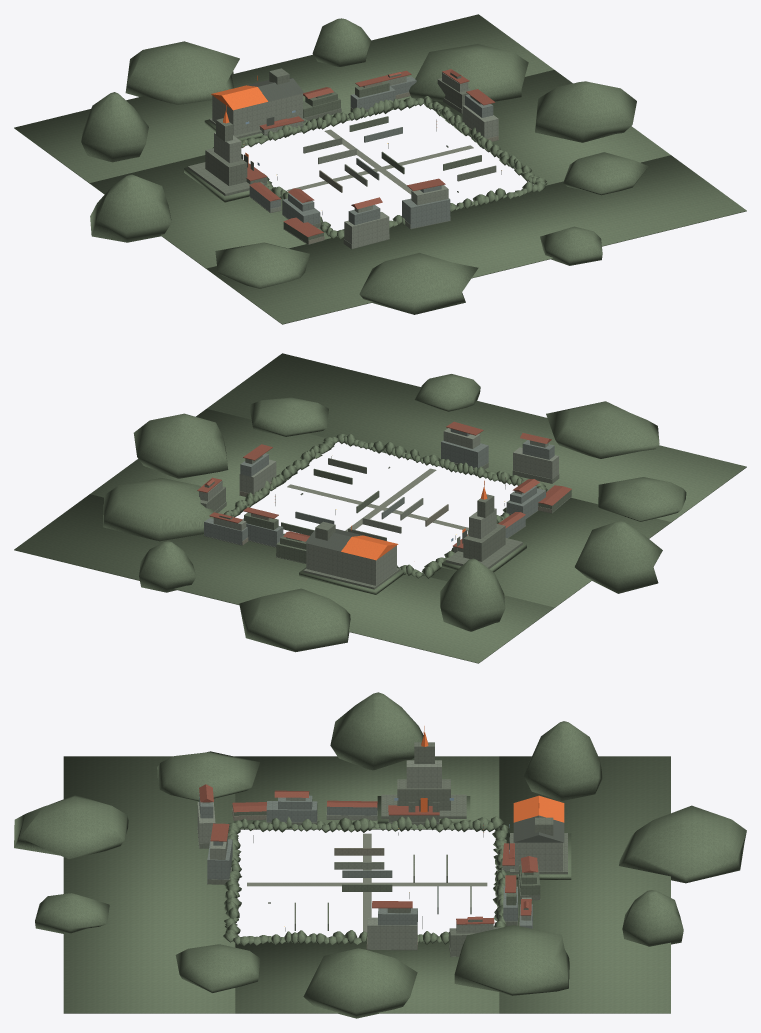
File: renshujo-lod2.glb
3 views of the same model, one above another, from view 1: azimuth 30°, elevation 25°; view 2: azimuth 150°, elevation 25°; view 3: azimuth 270°, elevation 25° (orthographic). The views are drawn at different scales.
Visible parts, largest first — view 1: HB_renshujo_LOD2_terrain, HB_renshujo_LOD2_wall_cool, HB_renshujo_LOD2_wall, HB_renshujo_LOD2_roof, HB_renshujo_LOD2_LANDMARK_1_wall_alt, HB_renshujo_LOD2_wall_weathered, HB_renshujo_LOD2_LANDMARK_0_wall, HB_renshujo_LOD2_wall_alt, HB_renshujo_LOD2_road, HB_renshujo_LOD2_LANDMARK_0_accent, HB_renshujo_LOD2_LANDMARK_0_trim, HB_renshujo_LOD2_LANDMARK_1_wall; view 2: HB_renshujo_LOD2_terrain, HB_renshujo_LOD2_wall_cool, HB_renshujo_LOD2_wall, HB_renshujo_LOD2_LANDMARK_0_wall, HB_renshujo_LOD2_roof, HB_renshujo_LOD2_LANDMARK_1_wall_alt, HB_renshujo_LOD2_wall_weathered, HB_renshujo_LOD2_wall_alt, HB_renshujo_LOD2_road, HB_renshujo_LOD2_LANDMARK_0_accent, HB_renshujo_LOD2_LANDMARK_0_wall_alt, HB_renshujo_LOD2_LANDMARK_0_terrain (+2 smaller); view 3: HB_renshujo_LOD2_terrain, HB_renshujo_LOD2_wall_cool, HB_renshujo_LOD2_roof, HB_renshujo_LOD2_wall, HB_renshujo_LOD2_LANDMARK_1_wall_alt, HB_renshujo_LOD2_wall_alt, HB_renshujo_LOD2_road, HB_renshujo_LOD2_wall_weathered, HB_renshujo_LOD2_LANDMARK_0_wall, HB_renshujo_LOD2_LANDMARK_0_accent, HB_renshujo_LOD2_LANDMARK_0_trim, HB_renshujo_LOD2_LANDMARK_1_wall (+2 smaller).
Part boxes in pixels (x1=…): HB_renshujo_LOD2_terrain: x1=14, y1=14, x2=746, y2=324; HB_renshujo_LOD2_wall_cool: x1=249, y1=76, x2=493, y2=228; HB_renshujo_LOD2_wall: x1=260, y1=72, x2=498, y2=248; HB_renshujo_LOD2_roof: x1=246, y1=69, x2=495, y2=236; HB_renshujo_LOD2_LANDMARK_1_wall_alt: x1=187, y1=118, x2=264, y2=196; HB_renshujo_LOD2_wall_weathered: x1=283, y1=81, x2=481, y2=243; HB_renshujo_LOD2_LANDMARK_0_wall: x1=212, y1=93, x2=302, y2=135; HB_renshujo_LOD2_wall_alt: x1=246, y1=72, x2=498, y2=249; HB_renshujo_LOD2_road: x1=287, y1=129, x2=473, y2=194; HB_renshujo_LOD2_LANDMARK_0_accent: x1=211, y1=76, x2=267, y2=110; HB_renshujo_LOD2_LANDMARK_0_trim: x1=247, y1=78, x2=303, y2=126; HB_renshujo_LOD2_LANDMARK_1_wall: x1=214, y1=132, x2=241, y2=162; HB_renshujo_LOD2_terrain: x1=14, y1=353, x2=746, y2=663; HB_renshujo_LOD2_wall_cool: x1=204, y1=429, x2=554, y2=546; HB_renshujo_LOD2_wall: x1=199, y1=428, x2=558, y2=533; HB_renshujo_LOD2_LANDMARK_0_wall: x1=306, y1=543, x2=396, y2=585; HB_renshujo_LOD2_roof: x1=197, y1=421, x2=571, y2=548; HB_renshujo_LOD2_LANDMARK_1_wall_alt: x1=446, y1=494, x2=522, y2=568; HB_renshujo_LOD2_wall_weathered: x1=244, y1=468, x2=571, y2=563; HB_renshujo_LOD2_wall_alt: x1=200, y1=455, x2=571, y2=563; HB_renshujo_LOD2_road: x1=287, y1=468, x2=468, y2=531; HB_renshujo_LOD2_LANDMARK_0_accent: x1=341, y1=525, x2=398, y2=560; HB_renshujo_LOD2_LANDMARK_0_wall_alt: x1=303, y1=521, x2=400, y2=589; HB_renshujo_LOD2_LANDMARK_0_terrain: x1=299, y1=567, x2=404, y2=594; HB_renshujo_LOD2_terrain: x1=14, y1=692, x2=746, y2=1018; HB_renshujo_LOD2_wall_cool: x1=199, y1=793, x2=532, y2=928; HB_renshujo_LOD2_roof: x1=199, y1=784, x2=538, y2=924; HB_renshujo_LOD2_wall: x1=197, y1=797, x2=531, y2=949; HB_renshujo_LOD2_LANDMARK_1_wall_alt: x1=381, y1=742, x2=466, y2=818; HB_renshujo_LOD2_wall_alt: x1=197, y1=813, x2=540, y2=956; HB_renshujo_LOD2_road: x1=247, y1=833, x2=487, y2=932; HB_renshujo_LOD2_wall_weathered: x1=232, y1=806, x2=540, y2=930; HB_renshujo_LOD2_LANDMARK_0_wall: x1=515, y1=842, x2=562, y2=871; HB_renshujo_LOD2_LANDMARK_0_accent: x1=513, y1=795, x2=564, y2=822; HB_renshujo_LOD2_LANDMARK_0_trim: x1=509, y1=815, x2=564, y2=849; HB_renshujo_LOD2_LANDMARK_1_wall: x1=406, y1=760, x2=441, y2=788.
Bounding box in the file's own units: 530 × 75.09 × 555.
12 materials, 10 textured.
